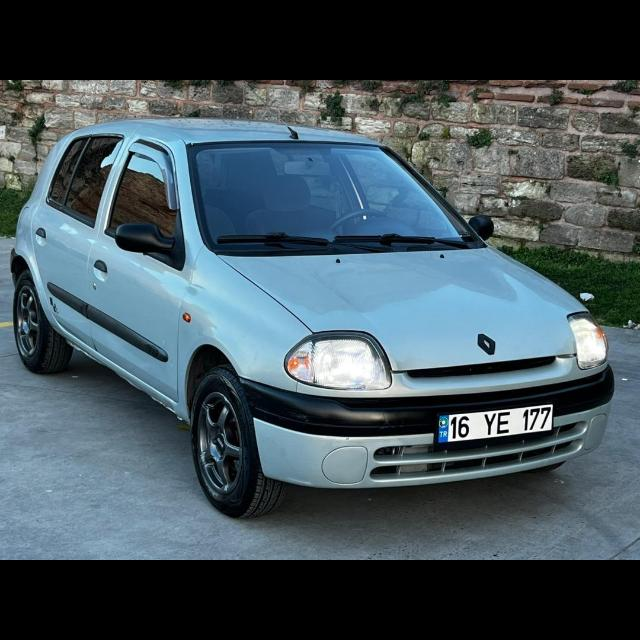Plaka: (439, 404, 553, 444)
